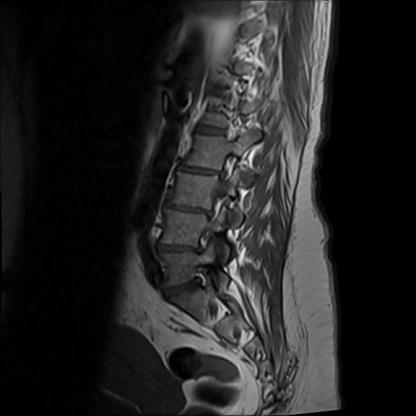Degenerative Disc Diseaserotation: (161, 278, 207, 299), (168, 201, 216, 218), (180, 163, 223, 181)
Disc Herniationrotation: (169, 201, 213, 219), (157, 242, 202, 258), (180, 163, 222, 180)
